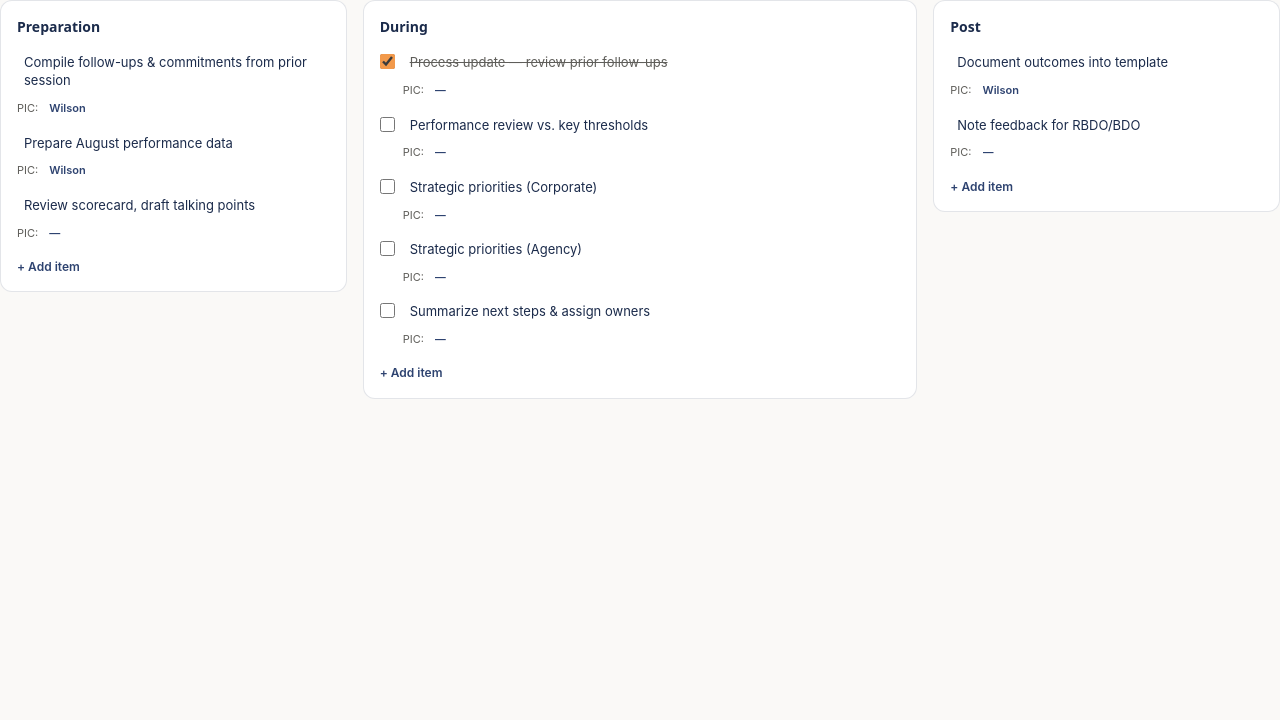
Scenario: P18.1-T2 AC-5 writing the agenda › a text written on leaving it, only when it changed, trimmed, with its version
This screenshot has width=1280, height=720.
Click the text box named "Preparation item 3" at [173, 205], box [17,192,330,218]
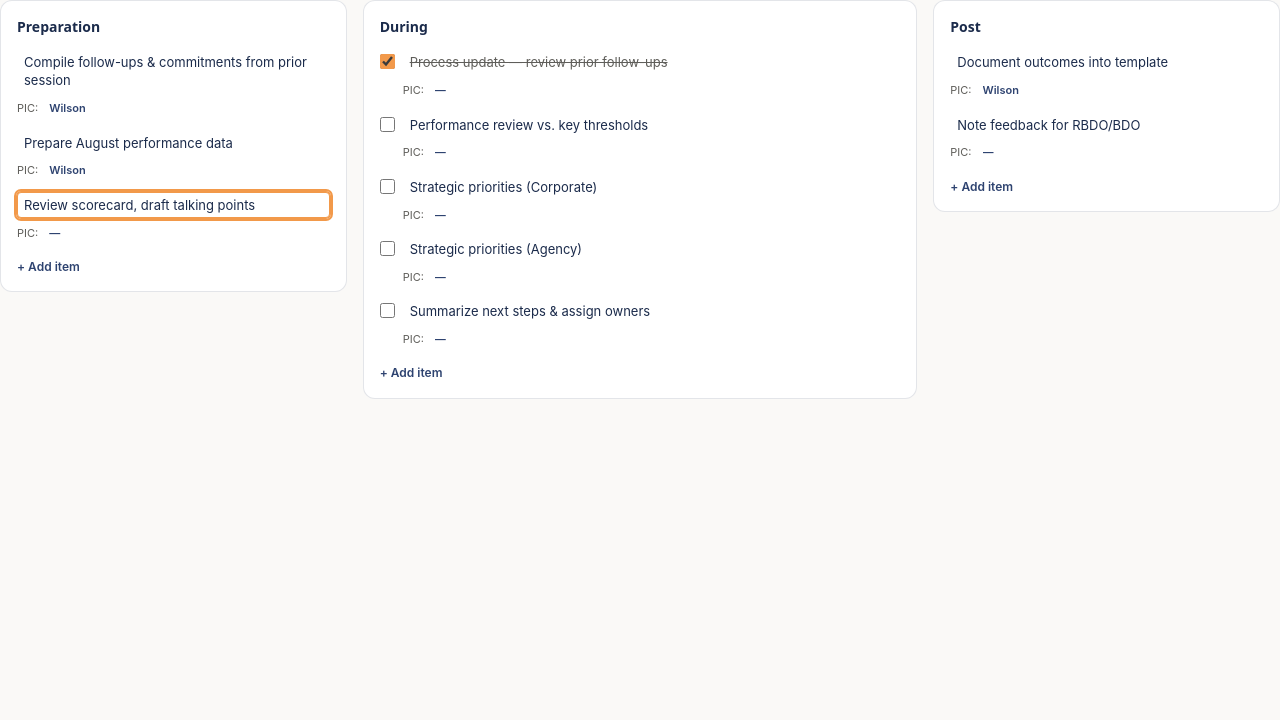
Press Tab
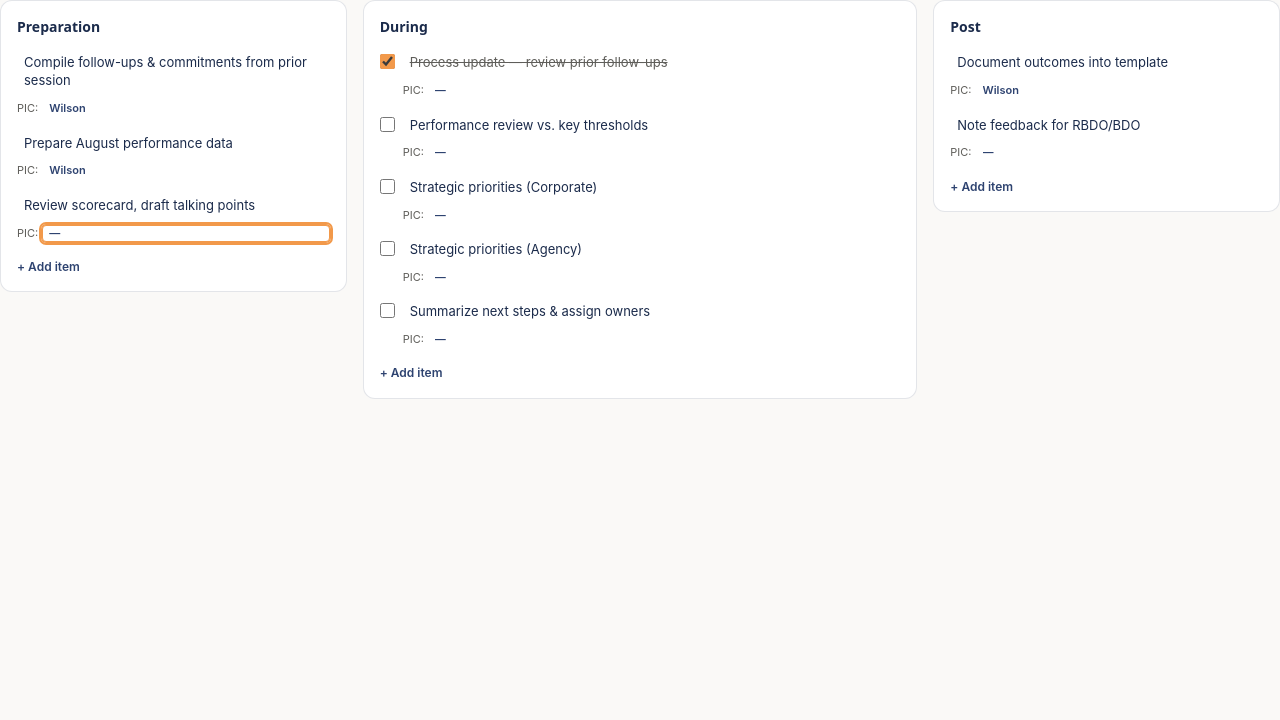
Type " today " into the text box named "Preparation item 3" at [173, 205], box [17,192,330,218]
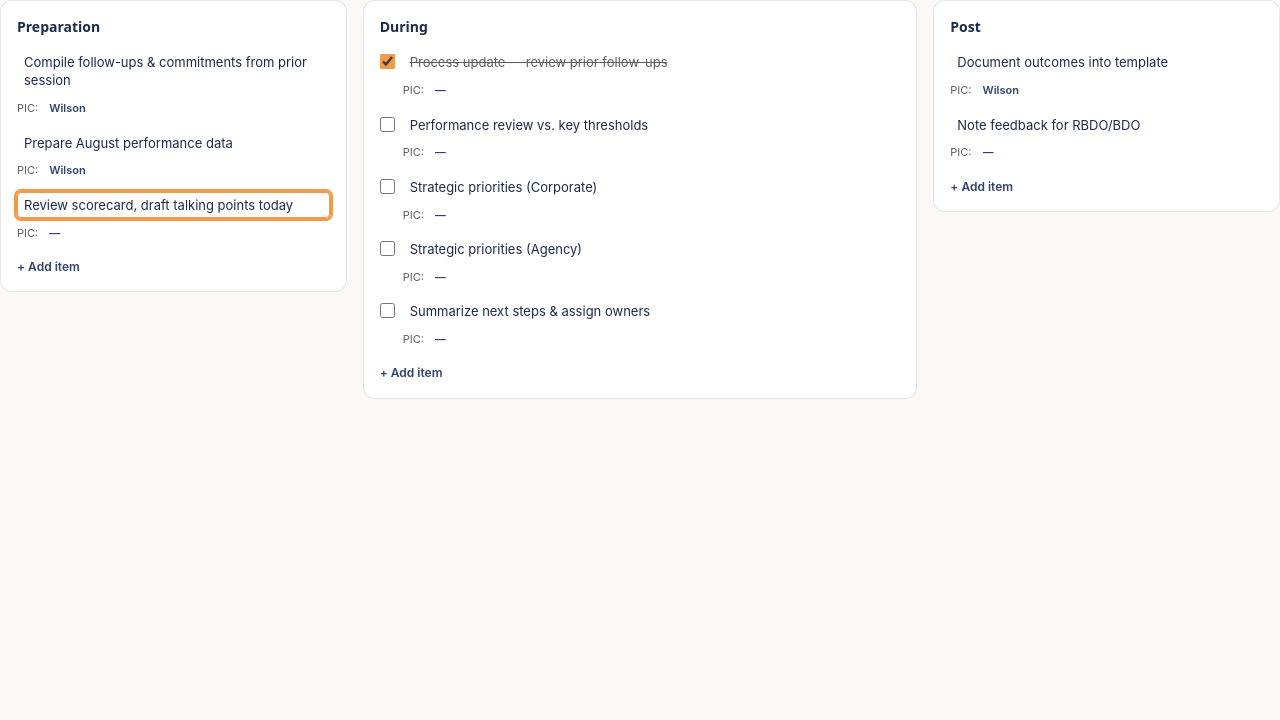
Press Tab
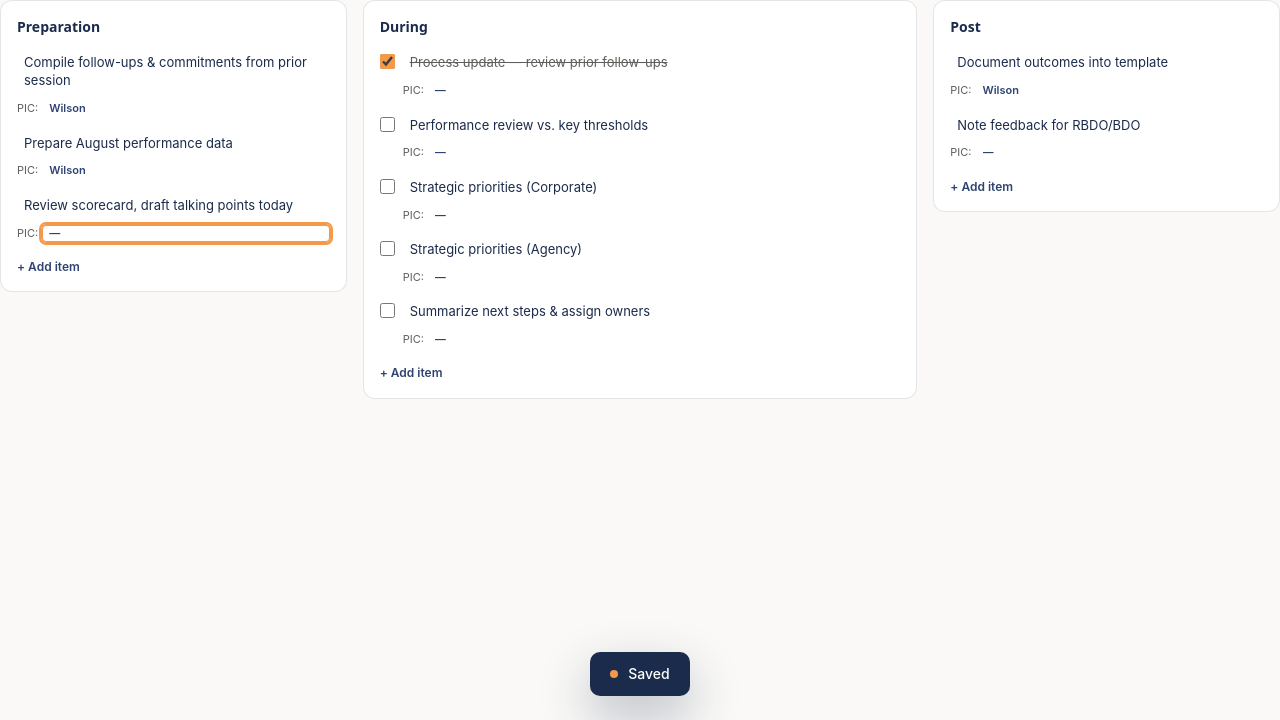
Expected: the text "Saved" is shown, [590,652,690,696]
Expected: the text box named "Preparation item 3" holds "Review scorecard, draft talking points today", [17,192,330,218]
